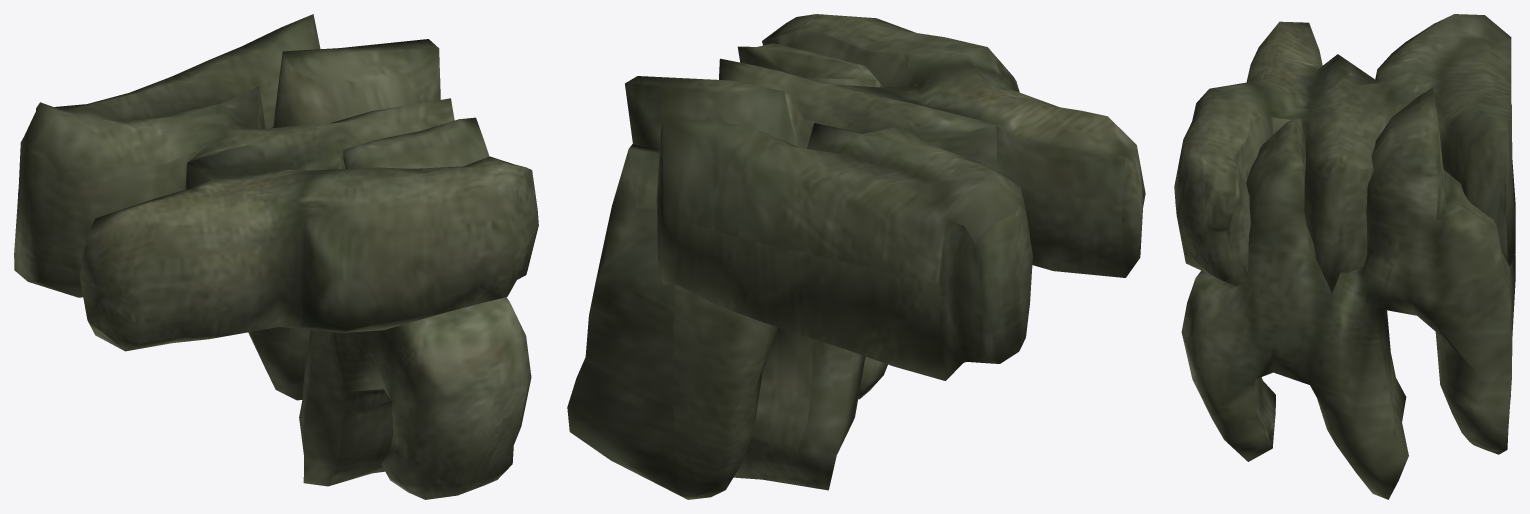
The model's file is military_sandbag_wet_cornersection.glb.
3 renders of one model, left to right at view 1: azimuth 30°, elevation 25°; view 2: azimuth 150°, elevation 25°; view 3: azimuth 270°, elevation 25°, orthographic. The views are drawn at different scales.
Size of the model in its own units: 43.11 by 38.84 by 33.14.
Materials: 1 (1 with a texture image).
